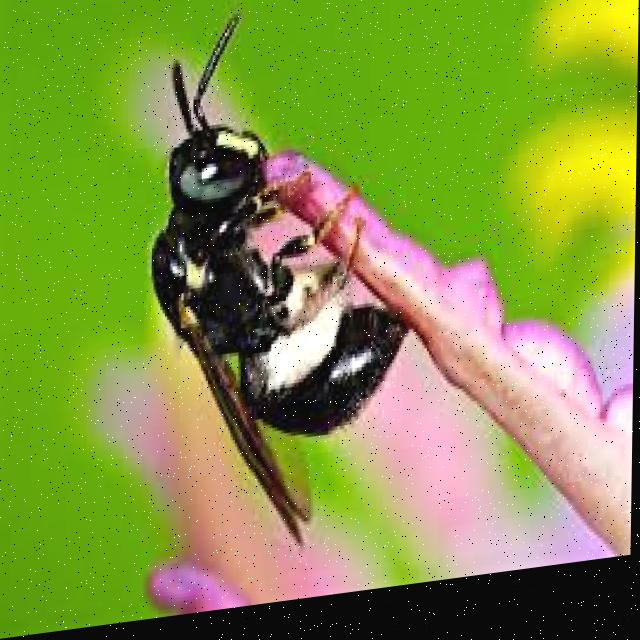Braunsapis: (147, 0, 432, 593)
